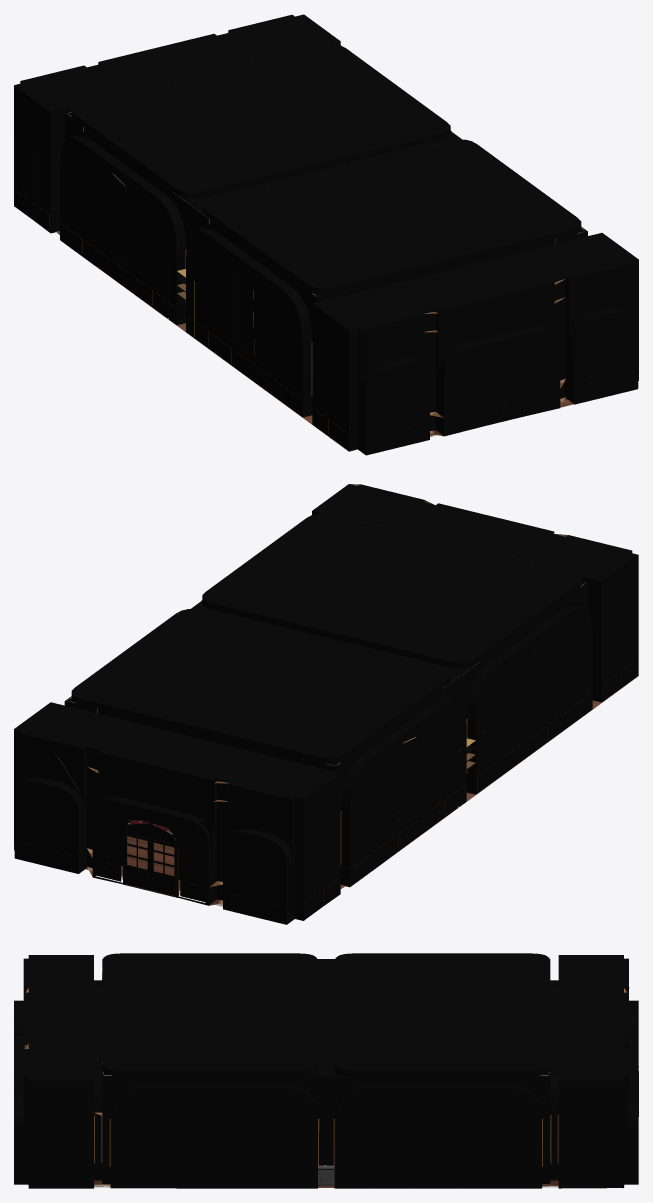
Rendered from casino-interior.glb.
3 views of the same model, one above another, from view 1: azimuth 30°, elevation 25°; view 2: azimuth 150°, elevation 25°; view 3: azimuth 270°, elevation 25° (orthographic). The views are drawn at different scales.
Visible parts, largest first — view 1: Material2.001, Material3.006; view 2: Material2.001, Material3.006, Material3.007, Material3.004; view 3: Material2.001, Material3.004, Material3.001.
Boxes of the visible parts, x1,y1,x2,y2 form: Material2.001: (14,14,638,455); Material3.006: (56,112,584,451); Material2.001: (14,484,638,924); Material3.006: (67,584,638,890); Material3.007: (85,822,284,923); Material3.004: (14,484,625,905); Material2.001: (14,953,638,1188); Material3.004: (23,988,629,1166); Material3.001: (318,1165,334,1185).
Bounding box in the file's own units: 485 × 203 × 1017.
12 materials, 11 textured.
